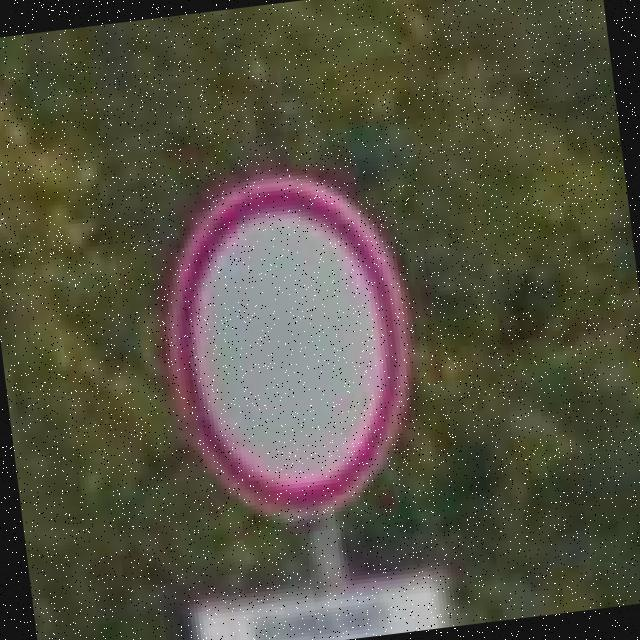Zakaz ruchu w obu kierunkach: (146, 165, 426, 534)
